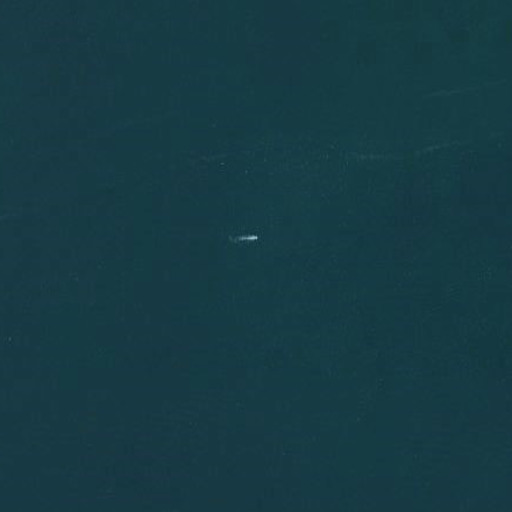ship: (241, 233, 259, 242)
